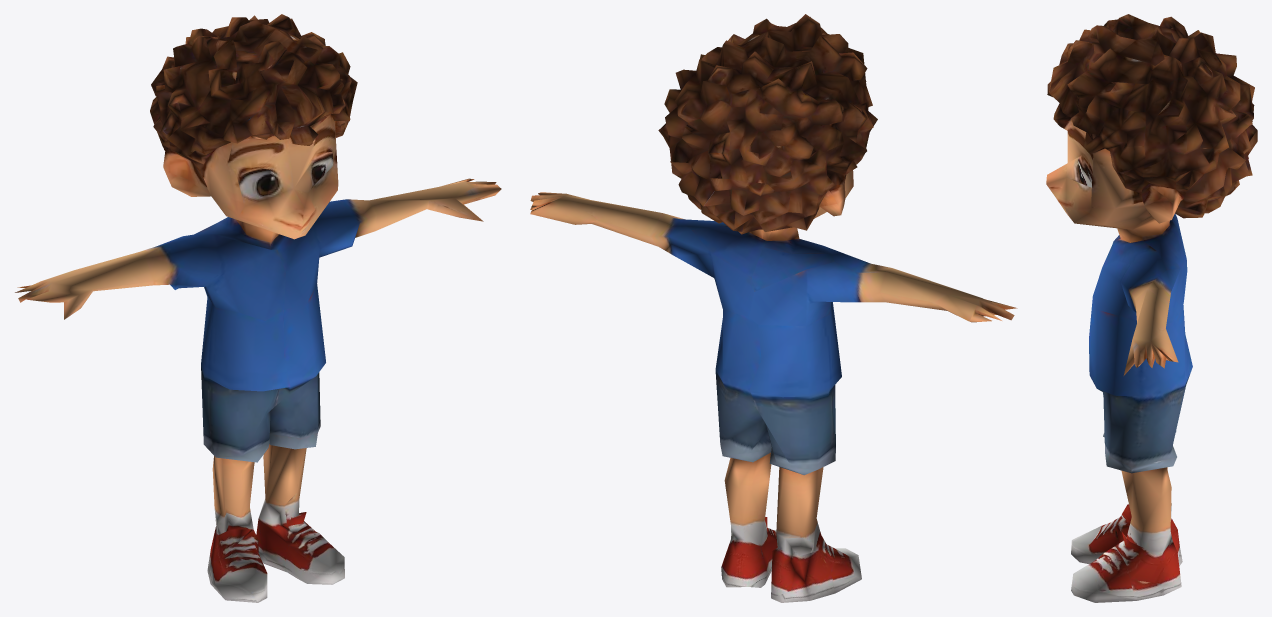
File: boy.glb
3 renders of one model, left to right at view 1: azimuth 30°, elevation 25°; view 2: azimuth 150°, elevation 25°; view 3: azimuth 270°, elevation 25°, orthographic.
Parts seen in each view (by area): view 1: head, body, base-l, base-r, section-l, section-r; view 2: head, body, base-l, base-r, section-l, section-r; view 3: head, base-r, body, section-r, base-l.
Boxes of the visible parts, bbox=[...] form: head: bbox=[150, 14, 357, 215]; body: bbox=[158, 177, 360, 390]; base-l: bbox=[201, 308, 290, 602]; base-r: bbox=[256, 305, 344, 584]; section-l: bbox=[15, 245, 178, 319]; section-r: bbox=[347, 178, 501, 245]; head: bbox=[658, 14, 877, 224]; body: bbox=[669, 187, 870, 395]; base-l: bbox=[749, 313, 861, 602]; base-r: bbox=[715, 318, 777, 587]; section-l: bbox=[854, 262, 1017, 322]; section-r: bbox=[530, 192, 685, 255]; head: bbox=[1047, 14, 1257, 219]; base-r: bbox=[1071, 296, 1192, 602]; body: bbox=[1046, 175, 1239, 395]; section-r: bbox=[1123, 278, 1178, 375]; base-l: bbox=[1071, 392, 1182, 565].
Size of the model in its own units: 3.47 by 3.8 by 1.33.
1 material, 1 textured.
